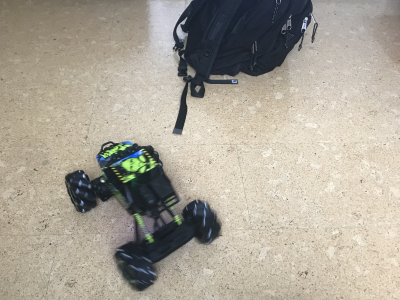remote control car: (60, 135, 223, 293)
